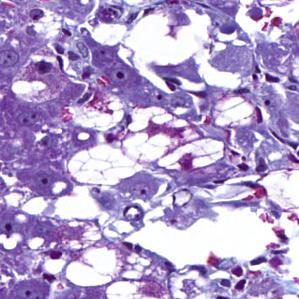ballooning: (118, 104, 225, 172), (67, 141, 144, 187)
